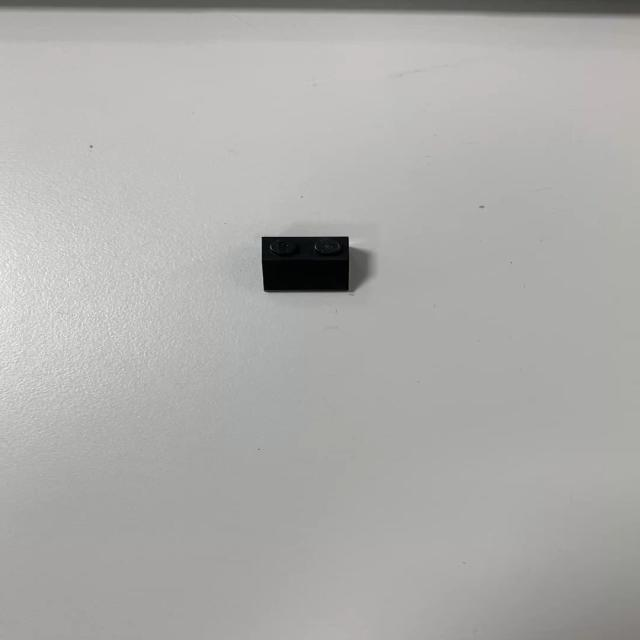P2x2x1: (251, 230, 359, 296)
